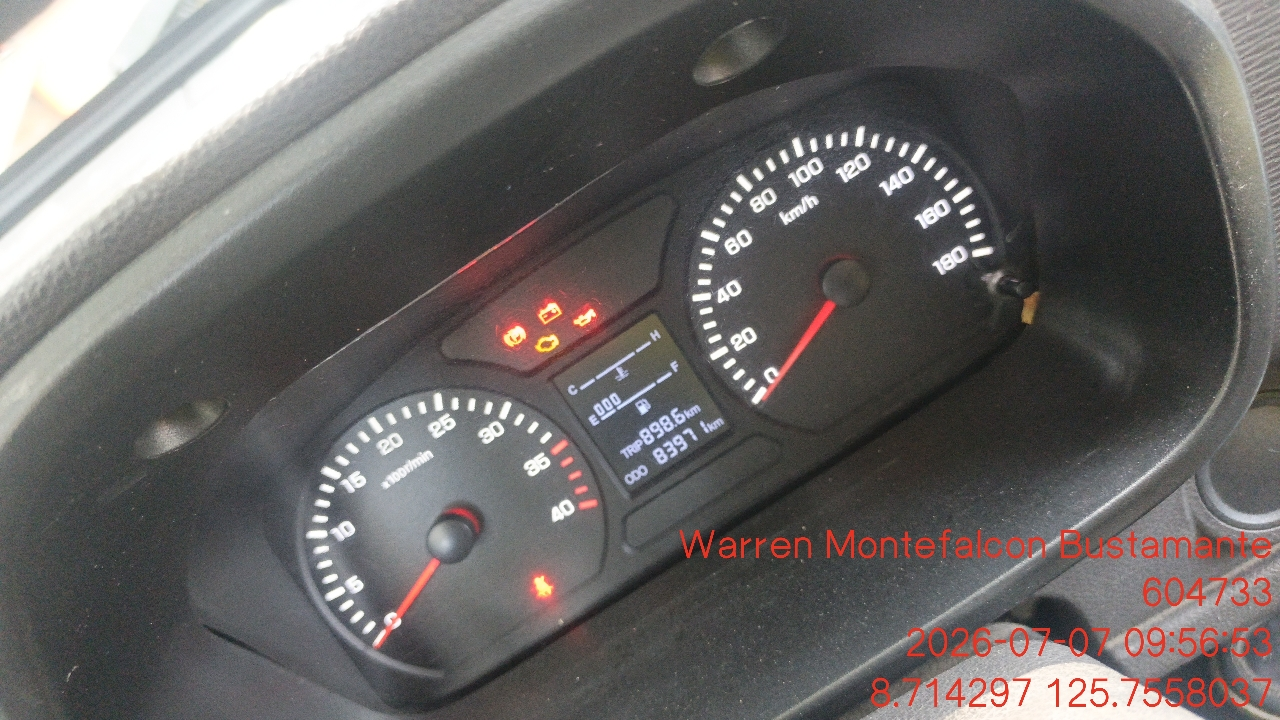grid_pose: (135, 108, 671, 419)
